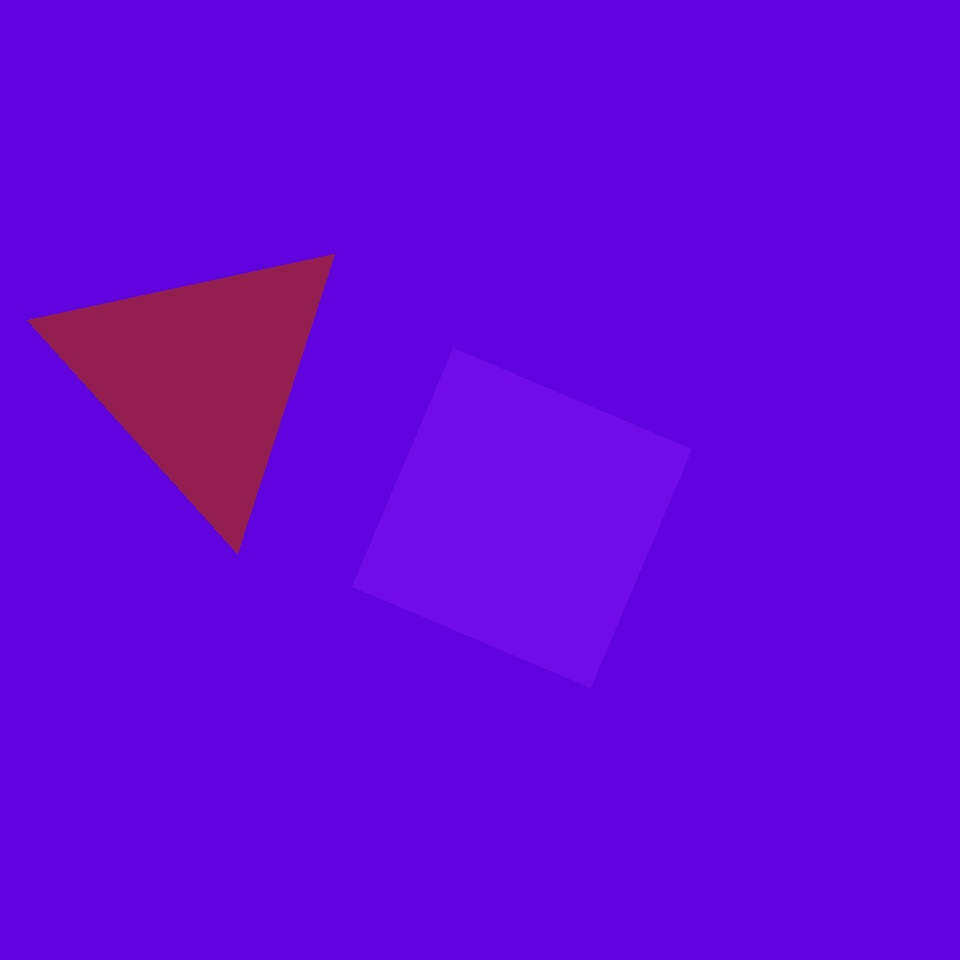circle: (536, 536, 854, 835), (47, 226, 354, 526), (34, 543, 262, 755)
square: (352, 348, 691, 687)
triangle: (416, 339, 567, 491)
